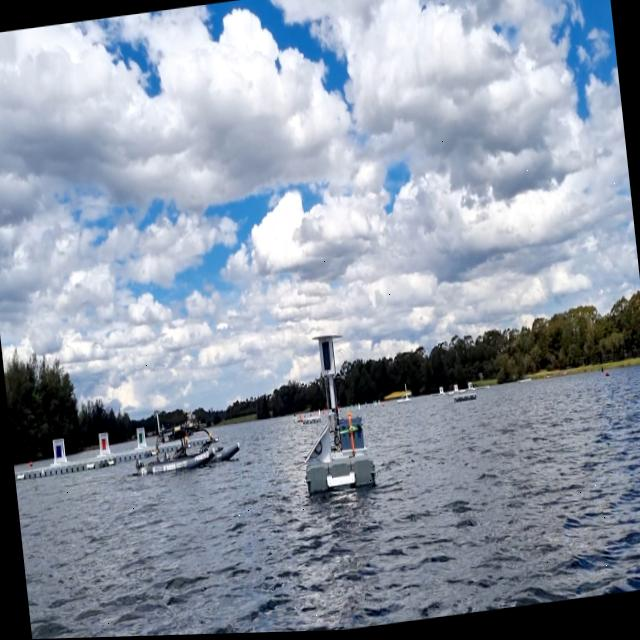led: (318, 341, 334, 374)
